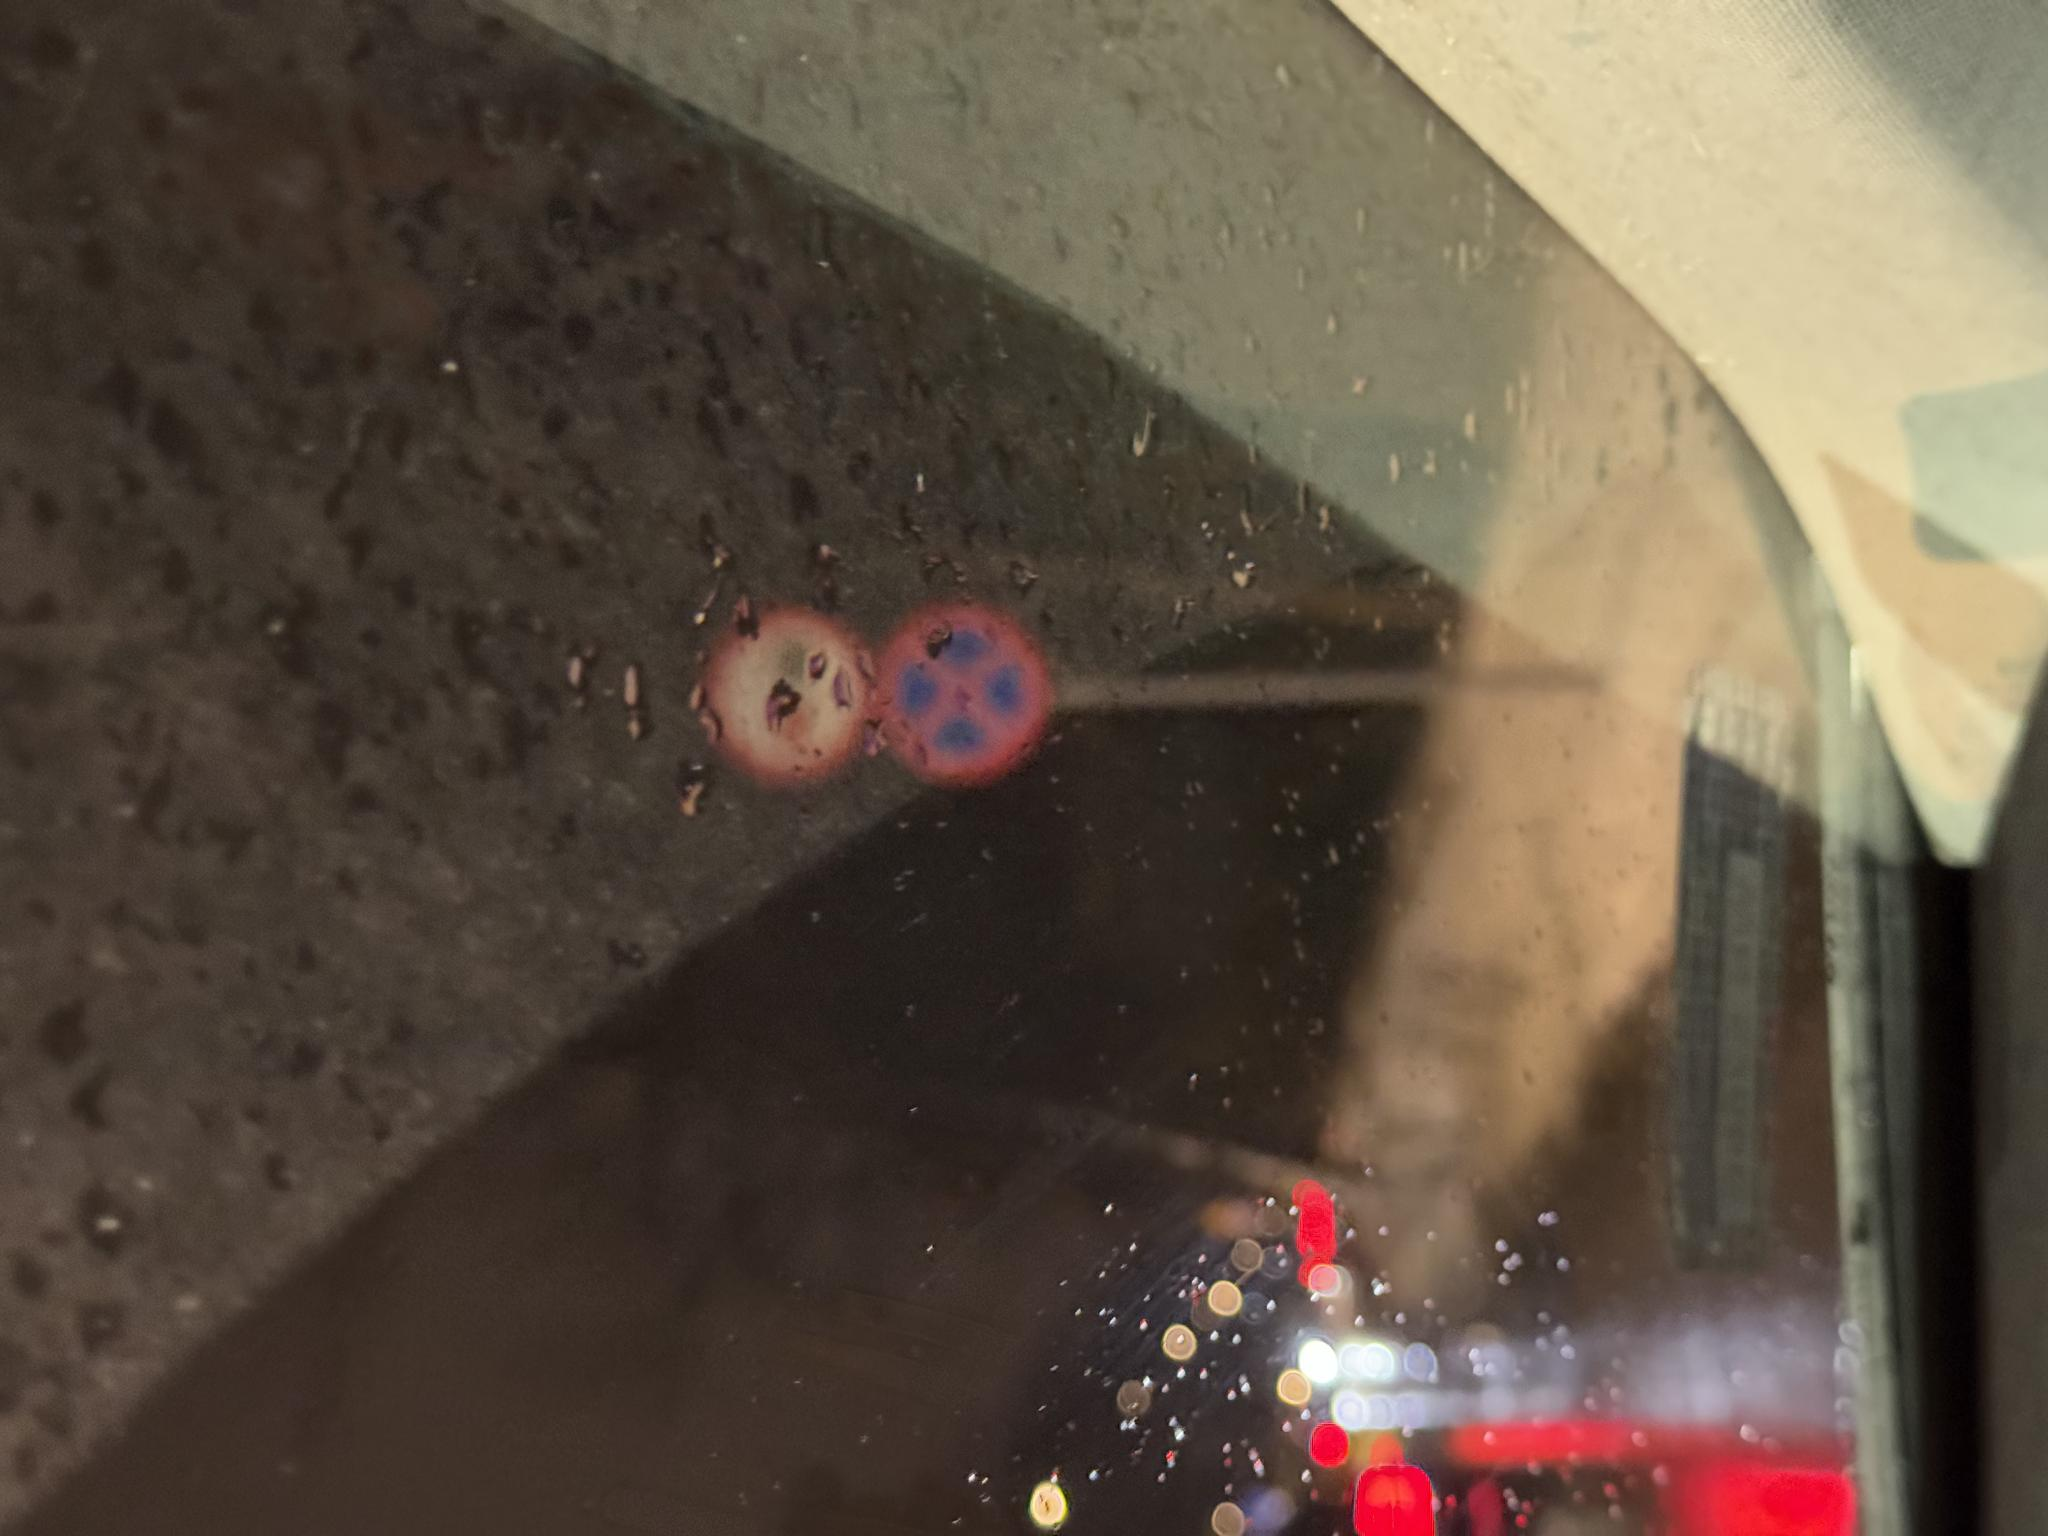prohibitory: (745, 876, 937, 1052), (753, 702, 934, 879)
